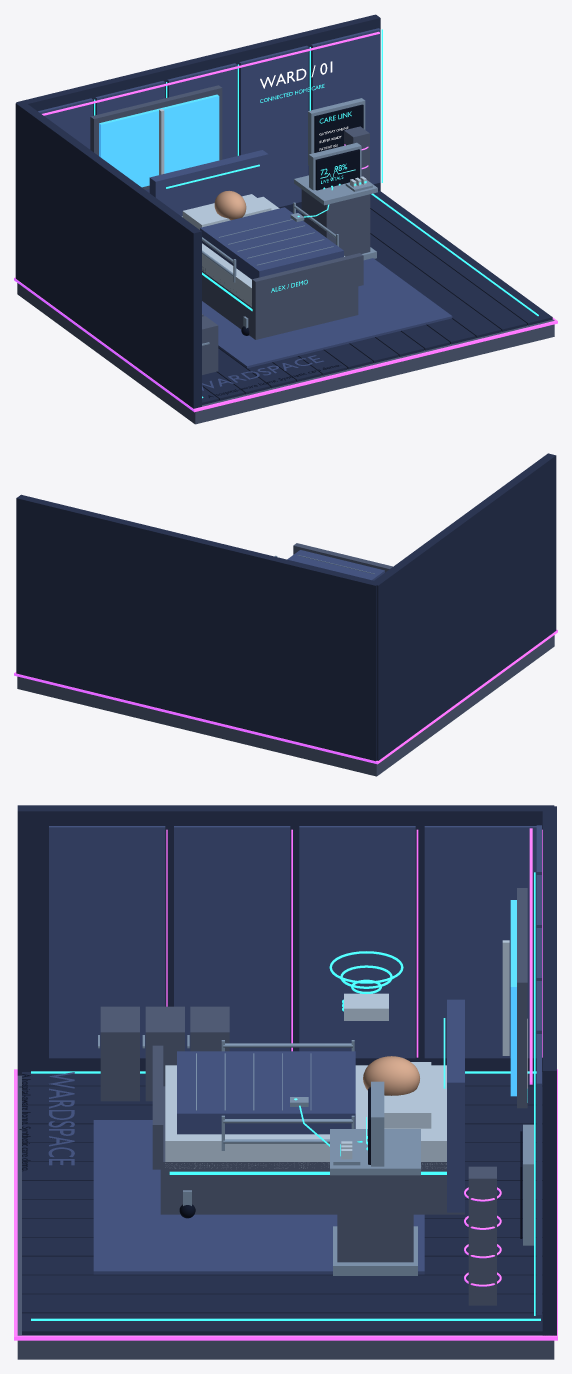
Rendered from room.glb.
3 views of the same model, one above another, from view 1: azimuth 30°, elevation 25°; view 2: azimuth 150°, elevation 25°; view 3: azimuth 270°, elevation 25° (orthographic). The views are drawn at different scales.
Visible parts, largest first — view 1: Left wall, Rug, Acoustic wall panel.003, Foundation, Daylight glass, Breathing blanket, Rear wall, Acoustic wall panel.004, Bed base, Headboard, Oak floor plank.013, Oak floor plank.012 (+30 smaller); view 2: Rear wall, Left wall, Foundation, Luminous pavilion foundation, Breathing blanket, Titanium footboard; view 3: Left wall, Left wall architectural panel.002, Left wall architectural panel, Left wall architectural panel.001, Left wall architectural panel.003, Rug, Breathing blanket, Foundation, Bed base, Oak floor plank.013, Oak floor plank.012, Oak floor plank.011 (+37 smaller).
Boxes of the visible parts, x1,y1,x2,y2 form: Left wall: [15, 101, 201, 408]; Rug: [202, 258, 452, 368]; Acoustic wall panel.003: [239, 45, 308, 207]; Foundation: [17, 283, 554, 424]; Daylight glass: [99, 94, 219, 187]; Breathing blanket: [200, 207, 343, 279]; Rear wall: [16, 14, 380, 212]; Acoustic wall panel.004: [311, 28, 380, 184]; Bed base: [202, 266, 358, 339]; Headboard: [149, 150, 268, 216]; Oak floor plank.013: [370, 191, 552, 325]; Oak floor plank.012: [370, 209, 526, 331]; Rear wall: [16, 494, 376, 761]; Left wall: [370, 453, 556, 760]; Foundation: [17, 635, 554, 776]; Luminous pavilion foundation: [14, 629, 557, 764]; Breathing blanket: [287, 550, 384, 580]; Titanium footboard: [293, 543, 392, 572]; Left wall: [17, 805, 554, 1075]; Left wall architectural panel.002: [299, 826, 415, 1058]; Left wall architectural panel: [49, 826, 165, 1058]; Left wall architectural panel.001: [174, 826, 290, 1051]; Left wall architectural panel.003: [424, 826, 540, 1058]; Rug: [93, 1120, 424, 1274]; Breathing blanket: [177, 1051, 355, 1134]; Foundation: [17, 1075, 554, 1359]; Bed base: [160, 1086, 464, 1214]; Oak floor plank.013: [22, 1313, 542, 1334]; Oak floor plank.012: [22, 1294, 542, 1313]; Oak floor plank.011: [22, 1275, 542, 1294].
Bounding box in the file's own units: 7.08 × 3.56 × 6.08.
